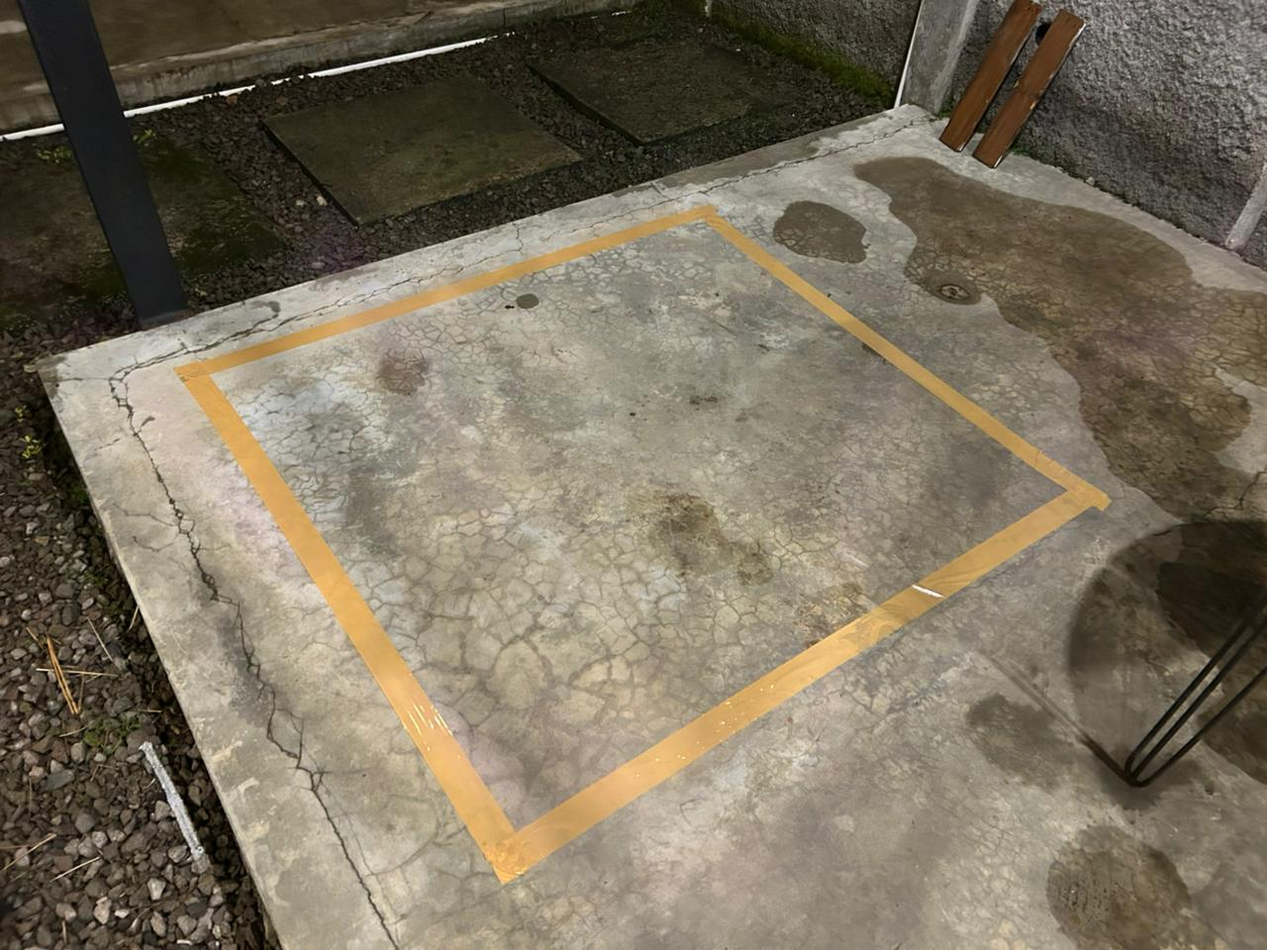floor marking: (175, 206, 1109, 882)
